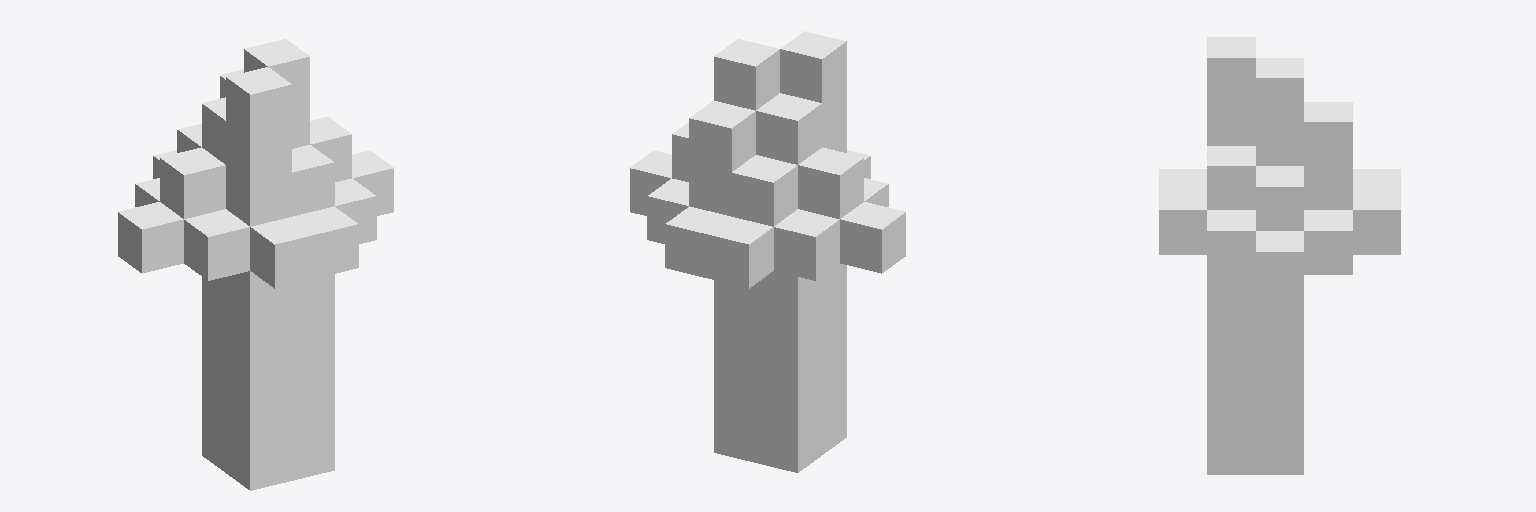
File: JungleTree2.obj
3 views of the same model, side by side, from view 1: azimuth 30°, elevation 25°; view 2: azimuth 150°, elevation 25°; view 3: azimuth 270°, elevation 25° (orthographic).
Size of the model in its own units: 6 by 9 by 5.